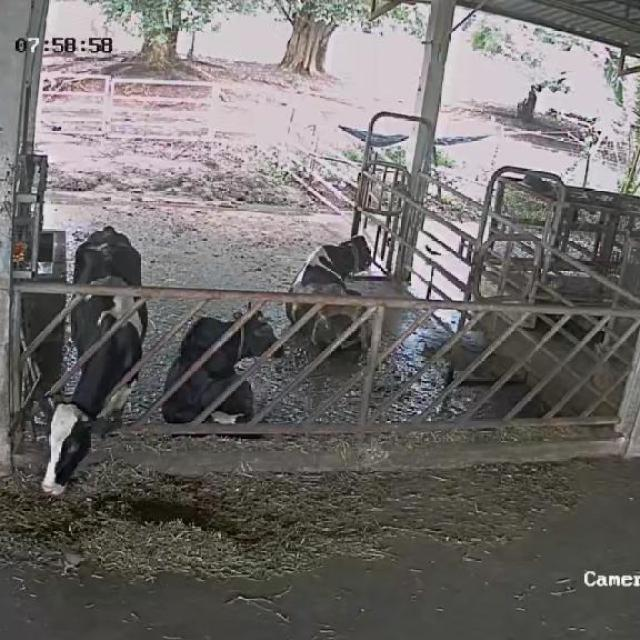feeding: (32, 223, 154, 497)
lying down: (158, 302, 288, 428), (287, 229, 387, 351)
